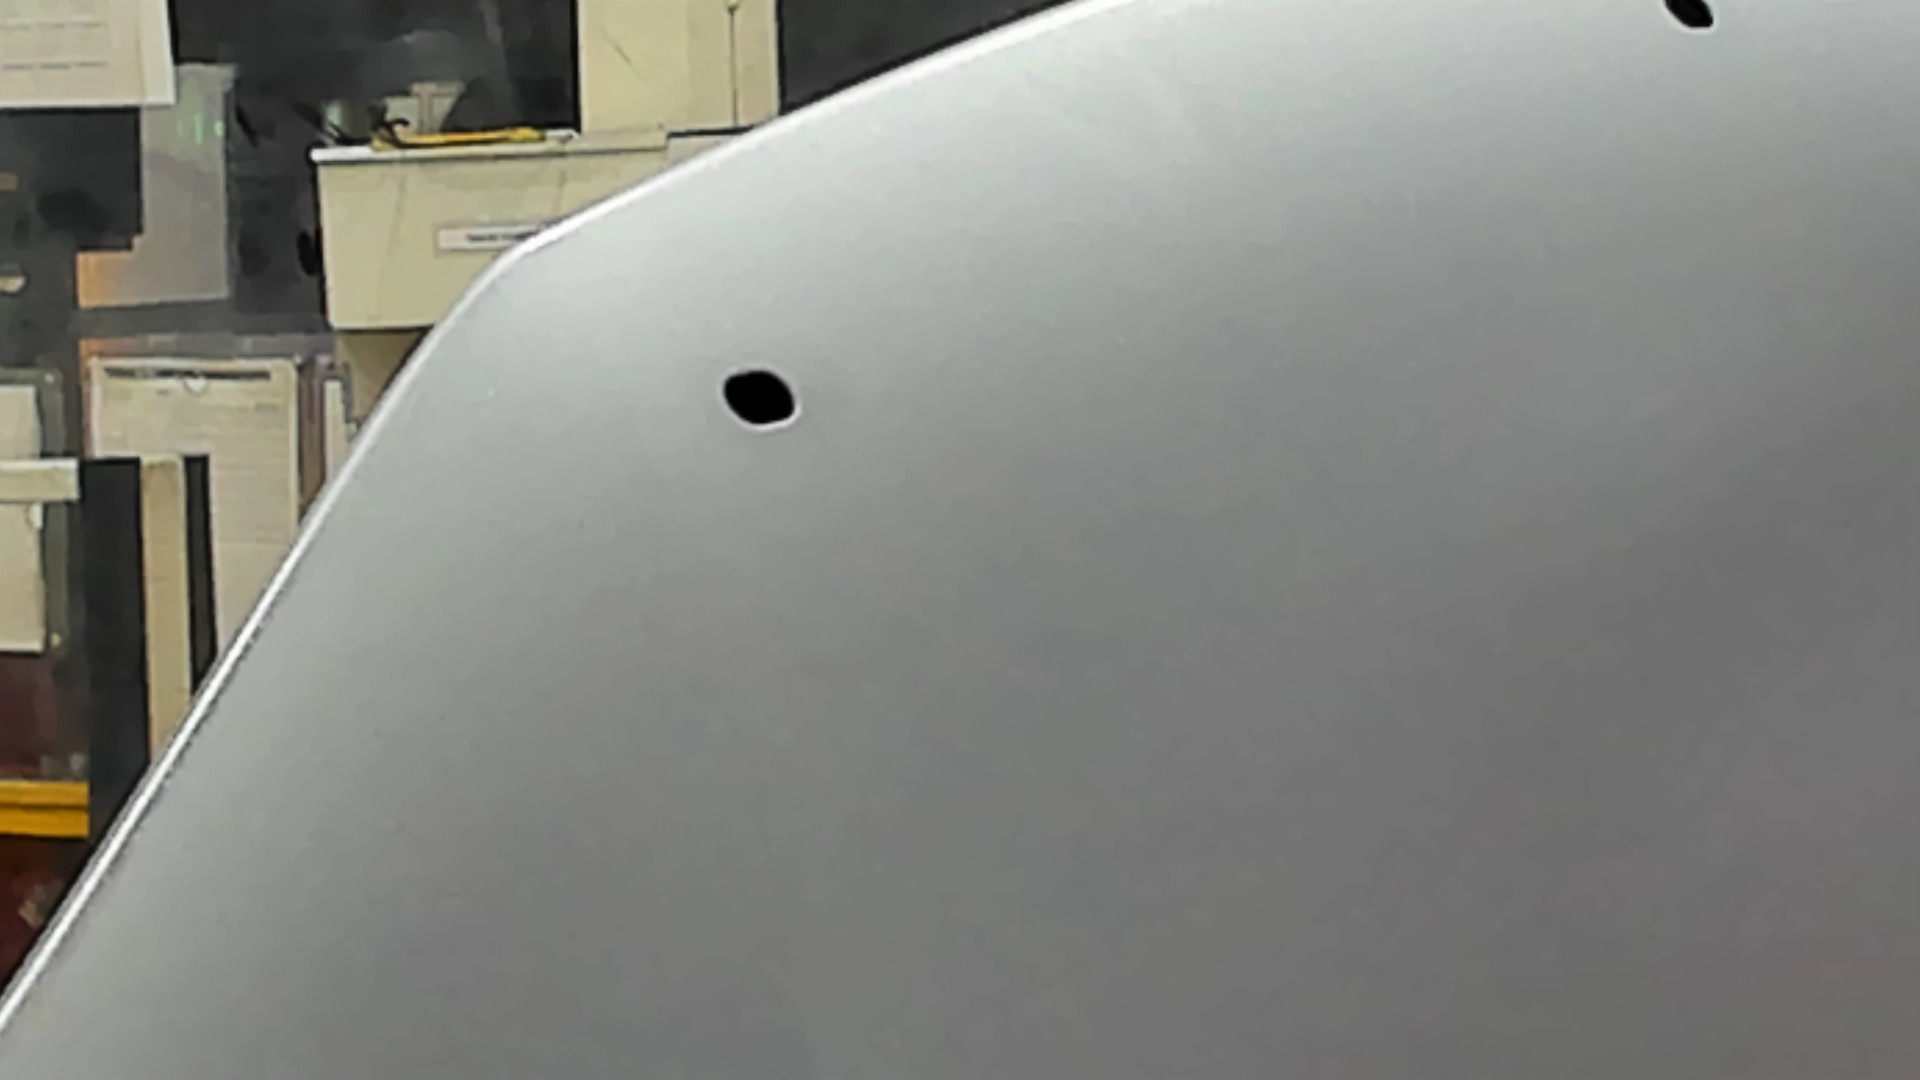Agujero: (719, 367, 800, 429), (1659, 1, 1716, 32)
